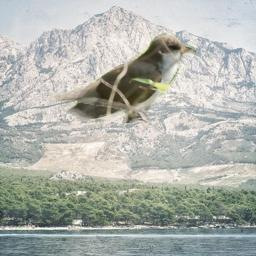Cuckoo: (49, 33, 196, 123)
